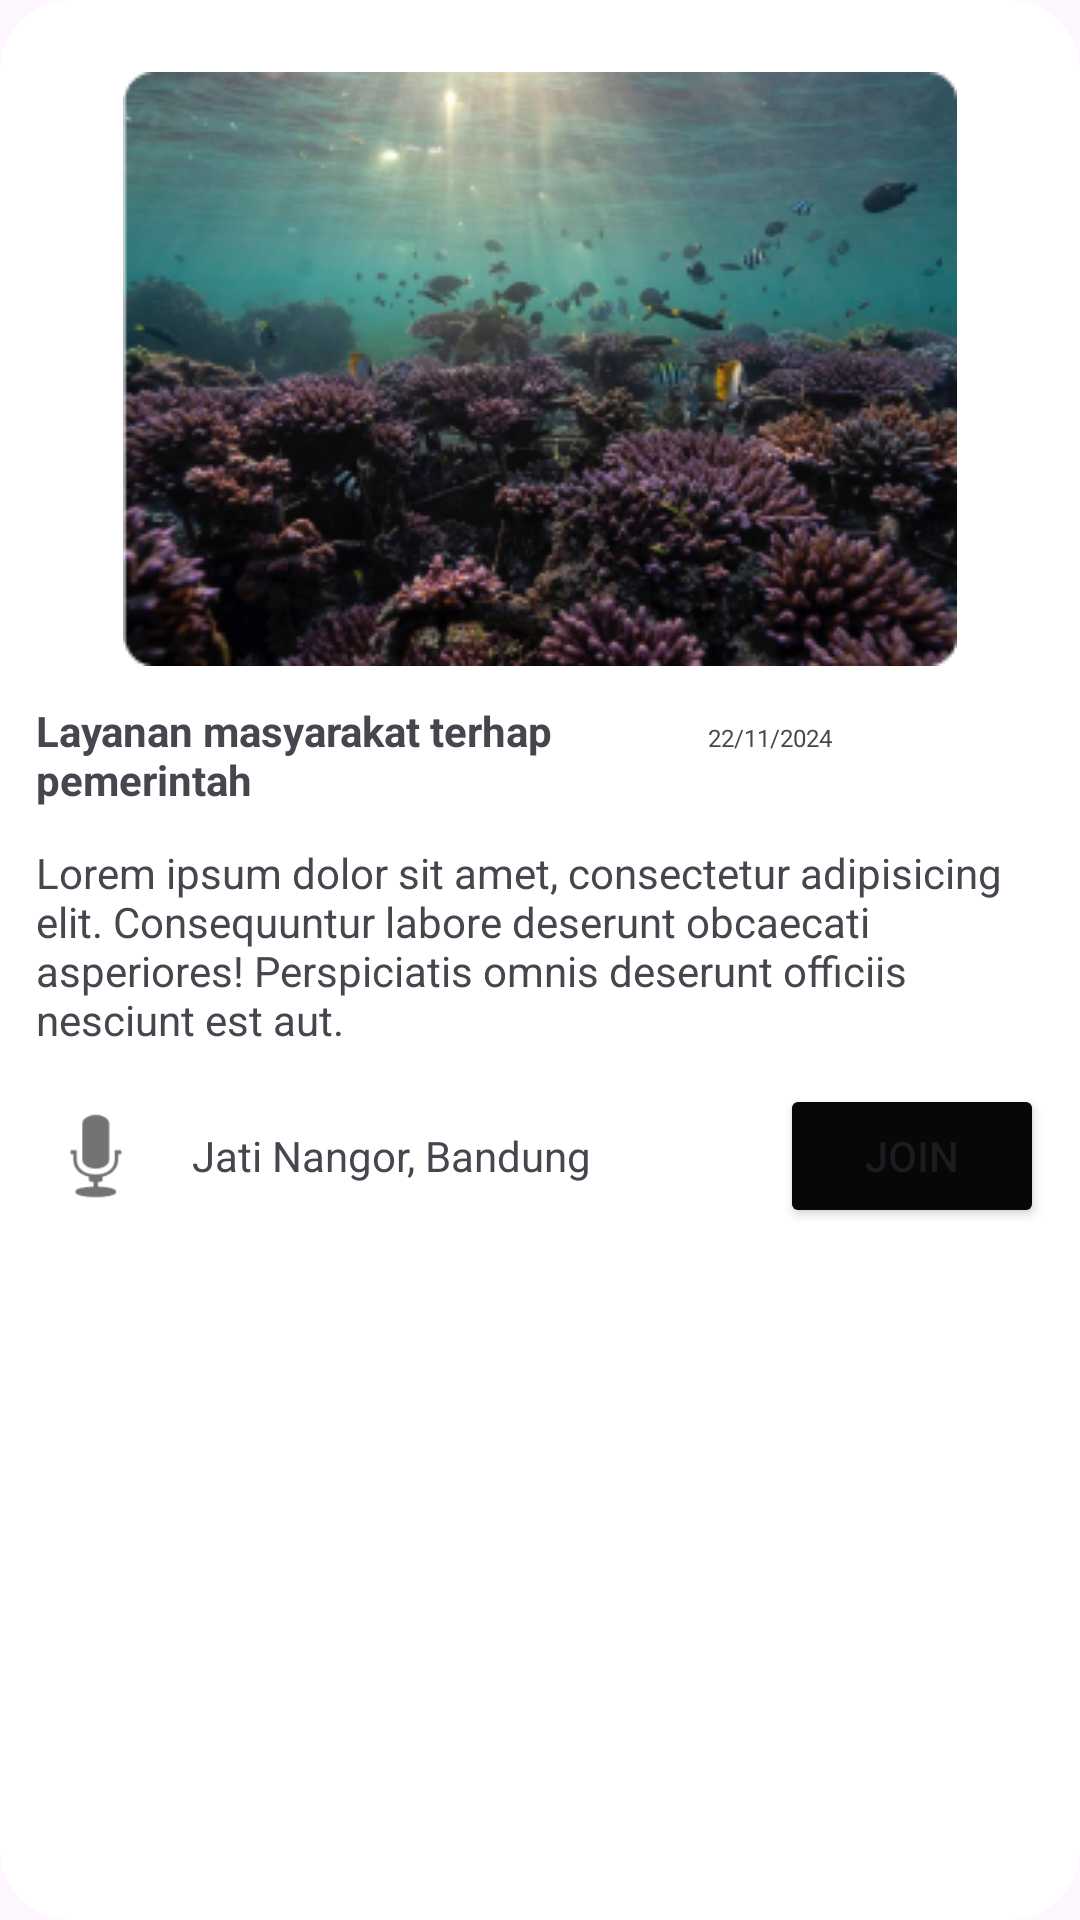

Screen size 1080 x 1920. Icon name, then its box in pixels as (x1, y1, x2, y2):
speak now: (70, 1114, 122, 1198)
